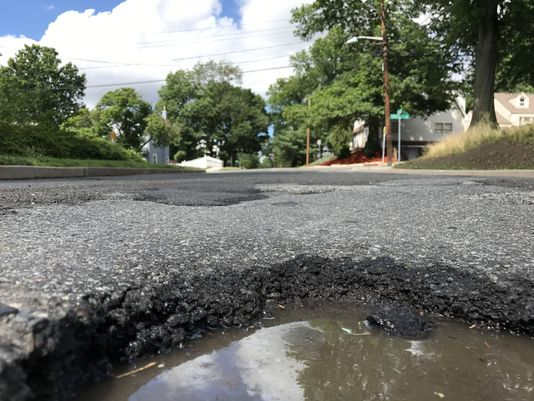pothole: (23, 249, 533, 391)
